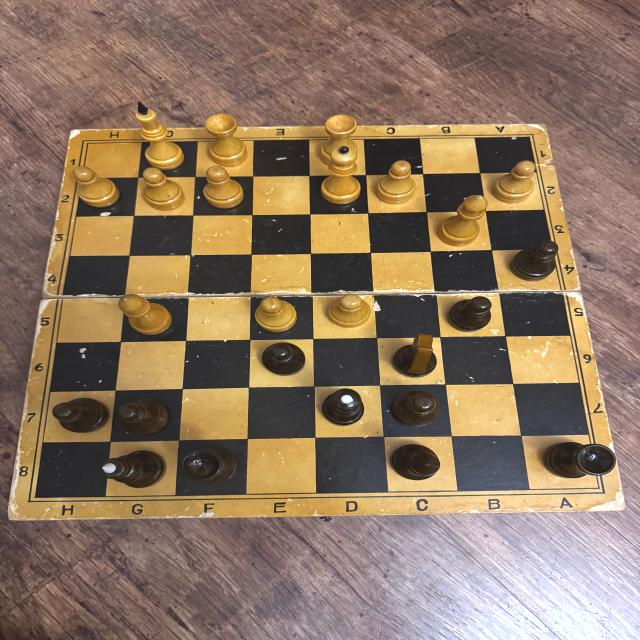black-bishop: (388, 444, 444, 481)
black-king: (98, 450, 167, 488)
black-knight: (391, 332, 438, 378)
black-pawn: (52, 396, 109, 434), (114, 398, 170, 434), (511, 240, 558, 282), (391, 390, 440, 428), (448, 296, 492, 333), (261, 342, 305, 376)
black-queen: (321, 388, 368, 426)
black-rook: (541, 442, 617, 479), (180, 449, 238, 485)
white-bishop: (437, 193, 488, 246), (116, 292, 175, 337)
white-king: (133, 101, 187, 170)
white-pawn: (490, 160, 536, 203), (72, 166, 120, 207), (201, 166, 246, 208), (140, 168, 184, 210), (375, 161, 418, 203), (252, 296, 300, 333), (326, 294, 373, 327)
white-queen: (318, 144, 362, 206)
white-rook: (203, 113, 250, 168), (318, 114, 360, 166)
